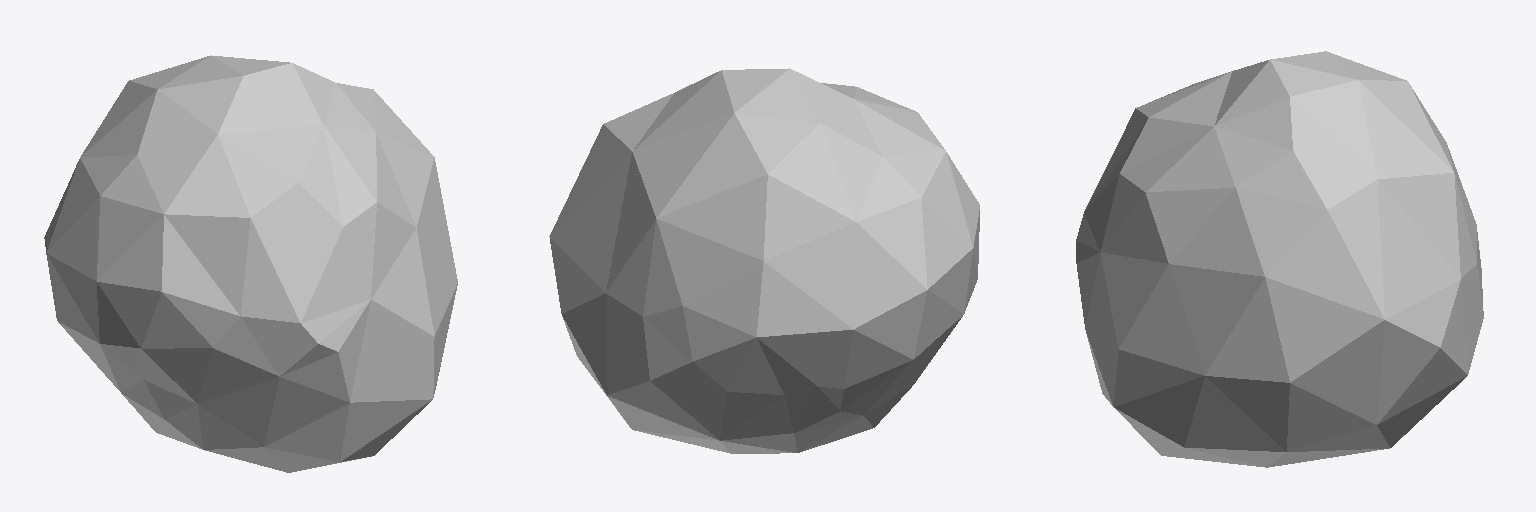
Rendered from stg600_obj_meteoriteB01.obj.
3 views of the same model, side by side, from view 1: azimuth 30°, elevation 25°; view 2: azimuth 150°, elevation 25°; view 3: azimuth 270°, elevation 25° (orthographic).
Visible parts, largest first — view 1: polygon0; view 2: polygon0; view 3: polygon0.
Boxes of the visible parts, x1=… form: polygon0: x1=44, y1=55, x2=457, y2=472; polygon0: x1=549, y1=68, x2=979, y2=453; polygon0: x1=1076, y1=51, x2=1483, y2=467.
Size of the model in its own units: 48.06 by 46.76 by 45.93.